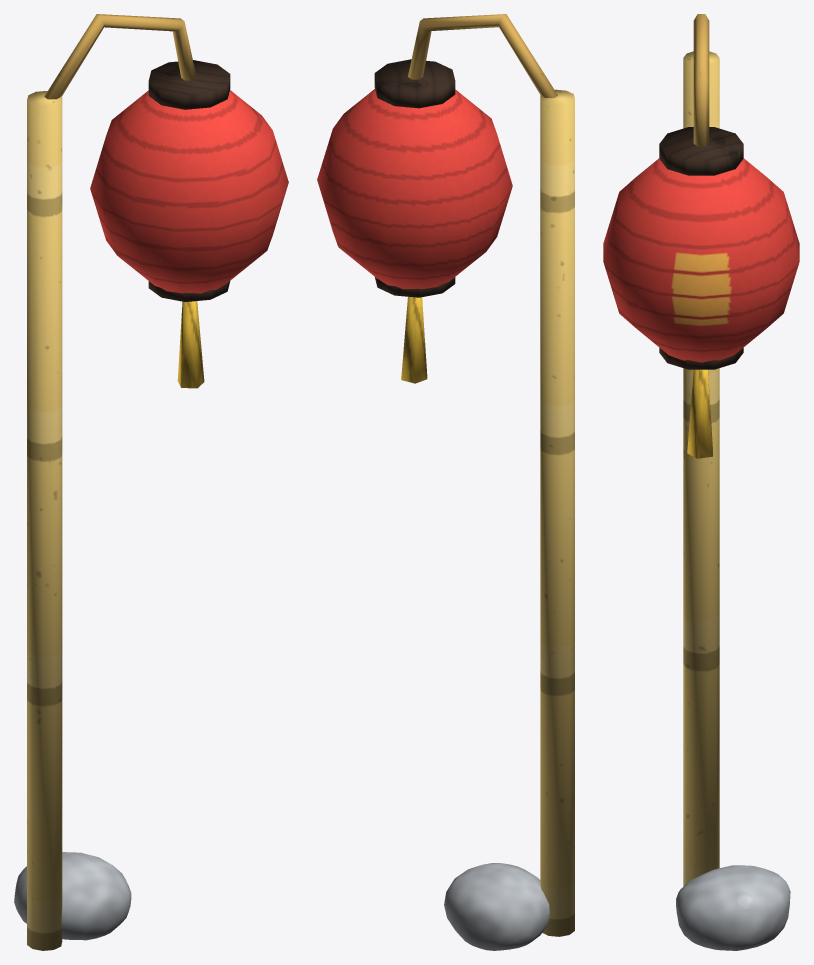
Rendered from paper_lantern.glb.
3 renders of one model, left to right at view 1: azimuth 30°, elevation 25°; view 2: azimuth 150°, elevation 25°; view 3: azimuth 270°, elevation 25°, orthographic. The views are drawn at different scales.
Visible parts, largest first — view 1: PaperLantern; view 2: PaperLantern; view 3: PaperLantern.
Boxes of the visible parts, left/top/right/bottom form: PaperLantern: left=14, top=14, right=288, bottom=950; PaperLantern: left=317, top=14, right=574, bottom=950; PaperLantern: left=603, top=14, right=799, bottom=950.
Size of the model in its own units: 0.4416 by 1.59 by 0.3022.
1 material, 1 textured.
